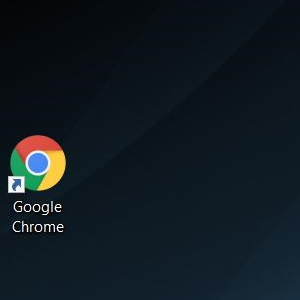chrome: (7, 135, 65, 193)
